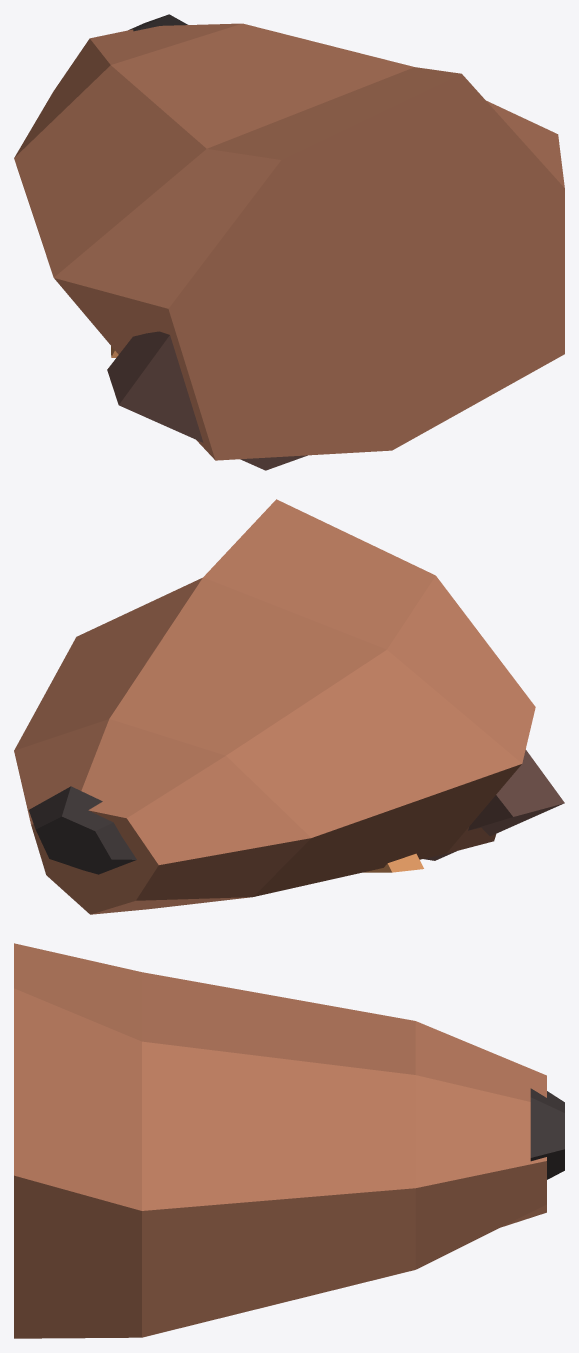
File: CrashBasinCliffB.fbx
The picture shows the model from 3 angles, top to bottom: view 1: azimuth 30°, elevation 25°; view 2: azimuth 150°, elevation 25°; view 3: azimuth 270°, elevation 25°; orthographic projection. The views are drawn at different scales.
Parts seen in each view (by area): view 1: CliffMass, CliffShadowLedge; view 2: CliffMass, CliffDarkCap, CliffShadowLedge, CliffStrata; view 3: CliffMass, CliffDarkCap.
Boxes of the visible parts, x1,y1,x2,y2 form: CliffMass: (14, 23, 564, 460); CliffShadowLedge: (107, 331, 307, 470); CliffMass: (14, 499, 535, 914); CliffDarkCap: (29, 786, 136, 874); CliffShadowLedge: (424, 749, 564, 860); CliffStrata: (363, 853, 423, 872); CliffMass: (14, 943, 546, 1338); CliffDarkCap: (530, 1088, 564, 1179).
Bounding box in the file's own units: 350 × 238 × 336.
